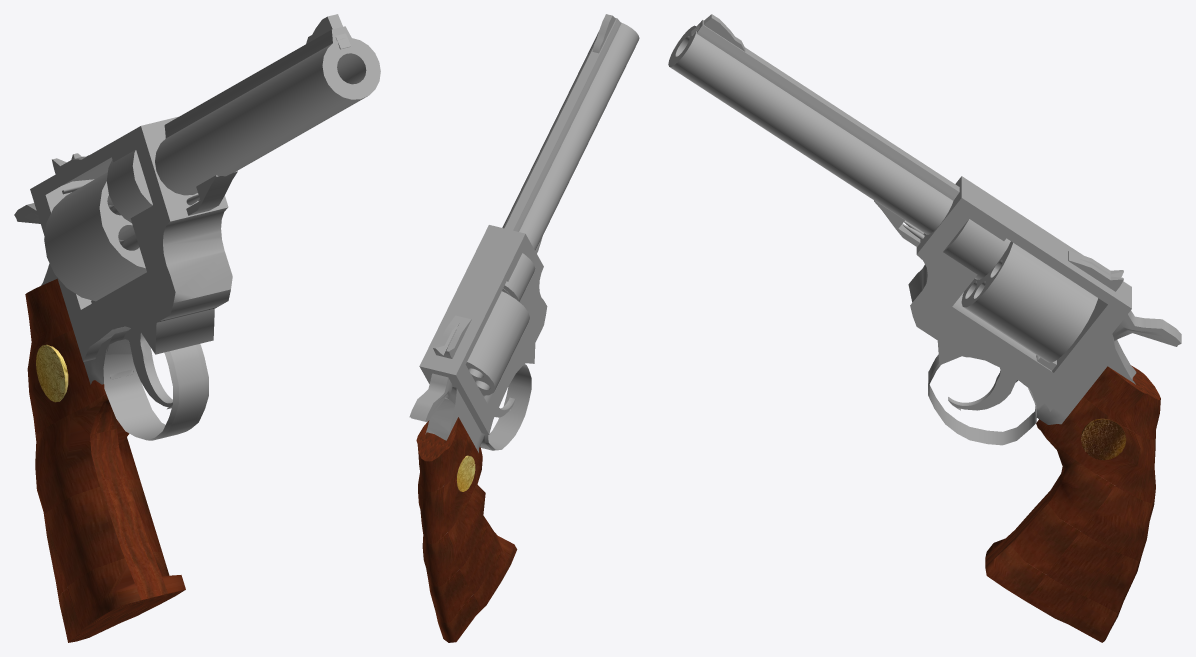
The model's file is rgun.fbx.
3 views of the same model, side by side, from view 1: azimuth 30°, elevation 25°; view 2: azimuth 150°, elevation 25°; view 3: azimuth 270°, elevation 25° (orthographic). The views are drawn at different scales.
Parts seen in each view (by area): view 1: GHandle, GBody4, GNeck, GMagazine, GHandCover, GNeckHead, GNeckArmor, GTrigger, pCylinder27, GBody5, GUnderSight2, GFrontSight; view 2: GHandle, GBody4, GNeck, GMagazine, GNeckHead, GHandCover, GBody5, GTrigger1, GAiming, GNeckArmor, pCylinder27, GFrontSight; view 3: GHandle, GBody4, GNeck, GMagazine, GNeckHead, GBody5, GNeckArmor, GHandCover, pCylinder27, GTrigger1, GTrigger, GAiming.
Part boxes in pixels (x1,y1,x2,y2): GHandle: (25, 278, 185, 642); GBody4: (30, 116, 232, 362); GNeck: (155, 38, 380, 195); GMagazine: (44, 172, 146, 301); GHandCover: (103, 330, 208, 440); GNeckHead: (164, 26, 351, 138); GNeckArmor: (106, 150, 152, 222); GTrigger: (123, 328, 172, 409); pCylinder27: (36, 344, 68, 402); GBody5: (41, 263, 133, 384); GUnderSight2: (186, 171, 237, 215); GFrontSight: (306, 14, 351, 49); GHandle: (416, 417, 517, 642); GBody4: (419, 225, 547, 434); GNeck: (502, 22, 639, 295); GMagazine: (465, 291, 529, 395); GNeckHead: (504, 18, 621, 231); GHandCover: (480, 364, 531, 450); GBody5: (425, 387, 484, 452); GTrigger1: (409, 373, 452, 422); GAiming: (433, 315, 471, 358); GNeckArmor: (503, 253, 535, 301); pCylinder27: (456, 455, 475, 491); GFrontSight: (592, 14, 615, 53); GHandle: (985, 365, 1160, 642); GBody4: (908, 176, 1131, 411); GNeck: (668, 25, 953, 234); GMagazine: (961, 241, 1097, 362); GNeckHead: (696, 20, 959, 200); GBody5: (1028, 334, 1136, 424); GNeckArmor: (943, 219, 1010, 279); GHandCover: (928, 354, 1036, 445); pCylinder27: (1081, 418, 1126, 460); GTrigger1: (1112, 310, 1181, 346); GTrigger: (948, 368, 1018, 410); GAiming: (1068, 251, 1123, 291).
Bounding box in the file's own units: 3.98 × 30.42 × 22.64.
3 materials, 2 textured.
